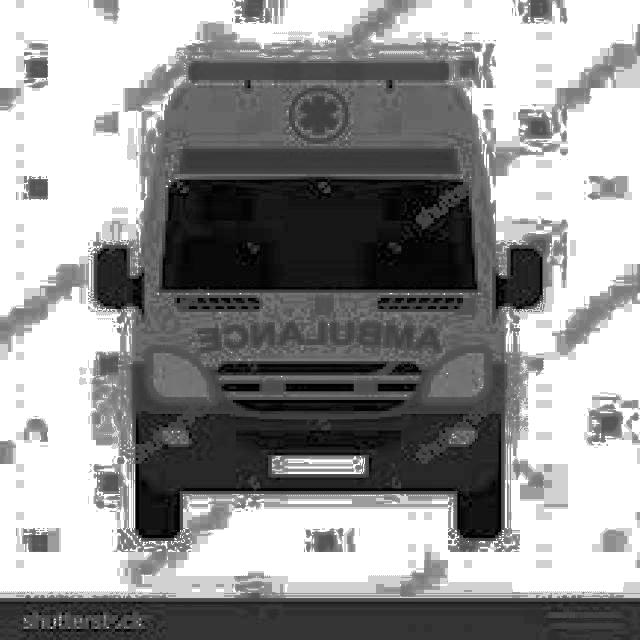LCV: (80, 59, 544, 494)
